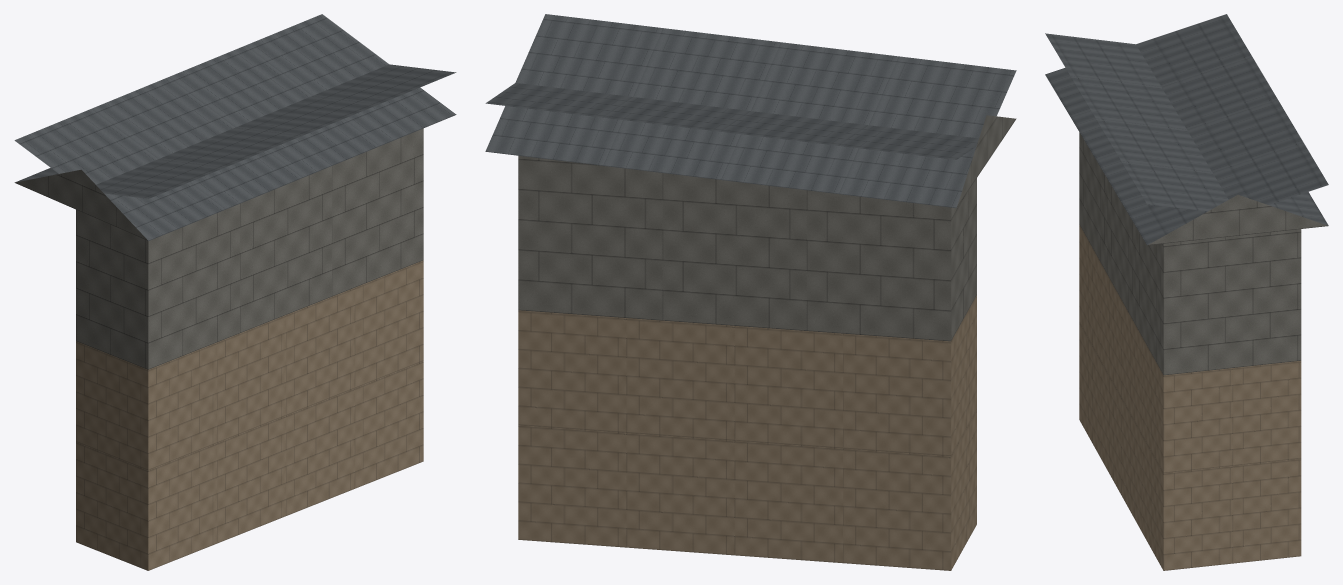
Rendered from bld_c21_32_367.gltf.
3 views of the same model, side by side, from view 1: azimuth 30°, elevation 25°; view 2: azimuth 150°, elevation 25°; view 3: azimuth 270°, elevation 25° (orthographic). The views are drawn at different scales.
Visible parts, largest first — view 1: bld_c21_32_367; view 2: bld_c21_32_367; view 3: bld_c21_32_367.
Boxes of the visible parts, <box> form: bld_c21_32_367: <box>14,14,456,570</box>; bld_c21_32_367: <box>485,14,1016,570</box>; bld_c21_32_367: <box>1045,14,1328,570</box>.
Bounding box in the file's own units: 9.93 × 9.2 × 6.26.
4 materials, 4 textured.
